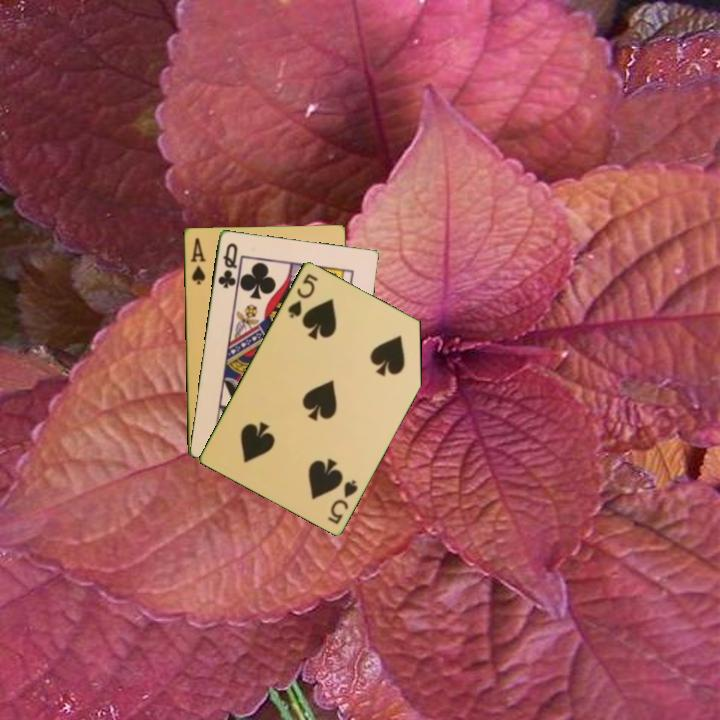5s: (284, 270, 321, 321), (324, 476, 361, 526)
As: (187, 234, 208, 287)
Qc: (214, 239, 240, 291)
